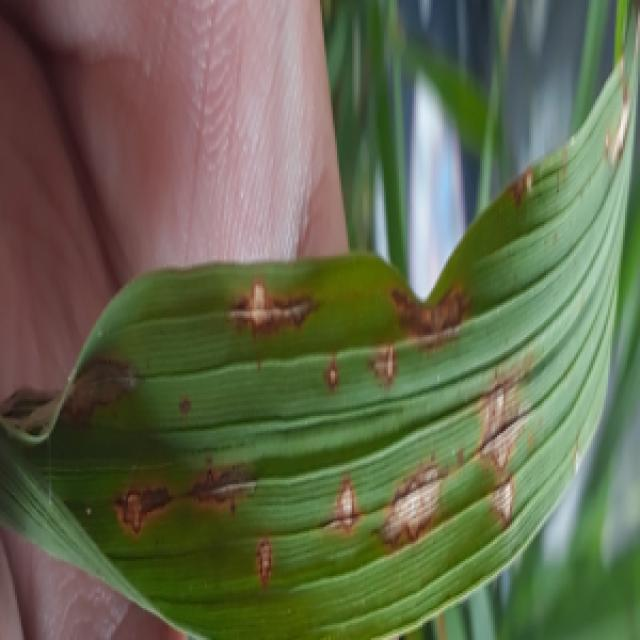Rice: (378, 448, 461, 560), (88, 467, 187, 543), (386, 279, 498, 344), (469, 367, 533, 472), (224, 269, 324, 336), (54, 359, 151, 424), (186, 454, 278, 517), (366, 332, 422, 397), (242, 533, 290, 595), (324, 471, 366, 540), (304, 357, 354, 401), (481, 474, 520, 526)
